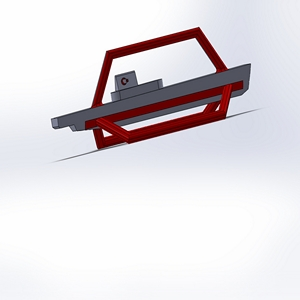submarine: (44, 27, 270, 172)
